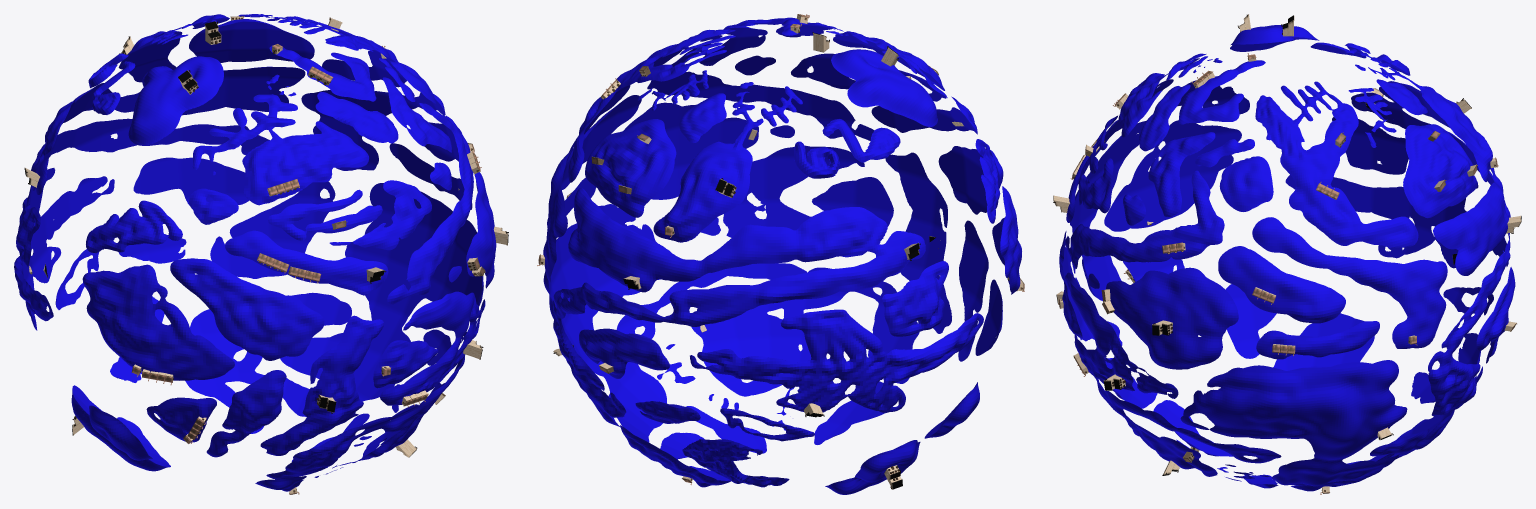
The model's file is World Islands With houses(1).fbx.
3 renders of one model, left to right at view 1: azimuth 30°, elevation 25°; view 2: azimuth 150°, elevation 25°; view 3: azimuth 270°, elevation 25°, orthographic. The views are drawn at different scales.
Parts seen in each view (by area): view 1: Sphere; view 2: Sphere; view 3: Sphere.
Part boxes in pixels (x1,y1,x2,y2): Sphere: [14, 14, 496, 491]; Sphere: [543, 17, 1021, 494]; Sphere: [1059, 25, 1515, 491].
Size of the model in its own units: 147960 by 152170 by 150973.
